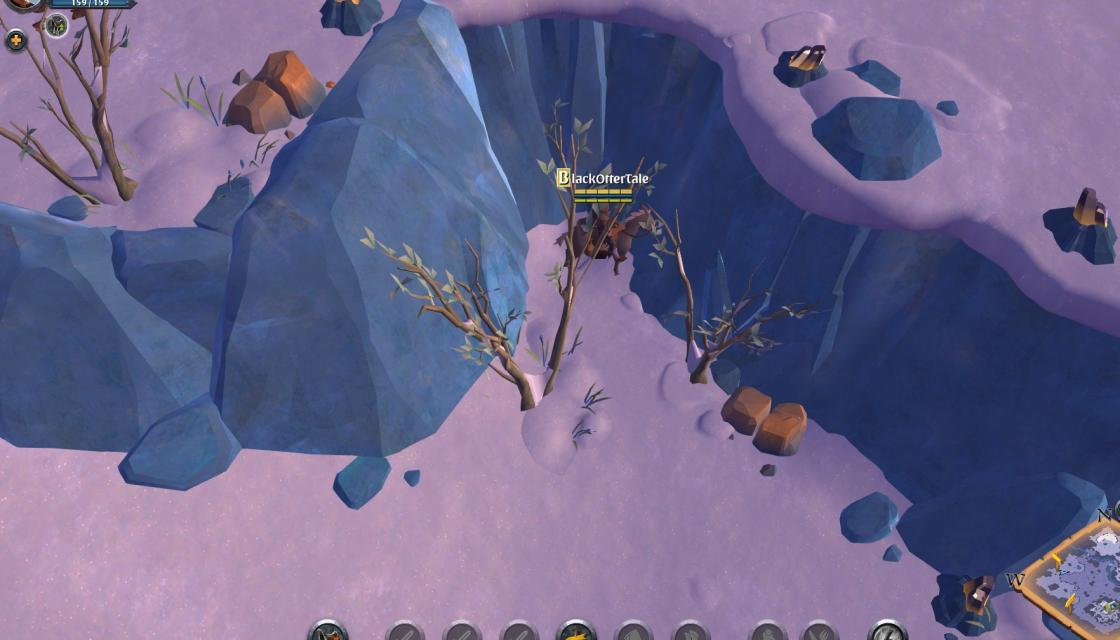copperore: (1044, 178, 1120, 268), (928, 568, 1004, 640), (772, 40, 828, 90), (314, 0, 387, 32)
limestone: (222, 47, 328, 131), (722, 382, 815, 458)
